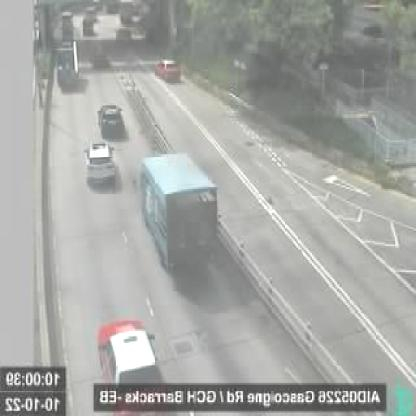Car: (96, 315, 171, 406), (84, 144, 117, 184), (97, 100, 125, 136), (157, 58, 180, 80)
Truck: (139, 151, 219, 276)
